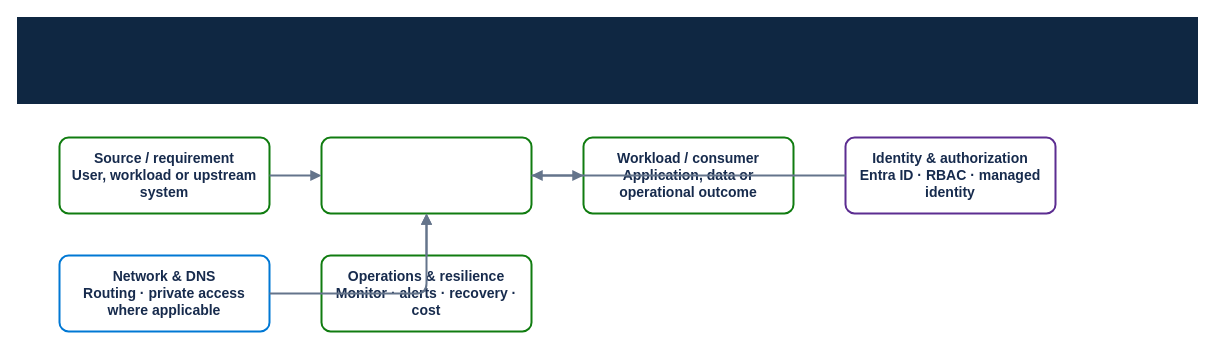
Some shapes in this 1215 by 350 pixel diagram are drawn without their labels. The shapes that lost their labels are listed below. From the top down, each one's centre as x and y in pixels, then its label:
the point at 607,60: Azure Monitor
the point at 426,175: Azure Monitor Azure service / architecture control
